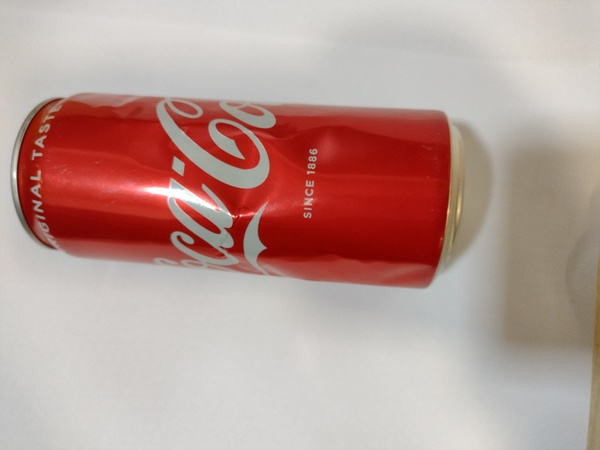can: (6, 85, 479, 294)
